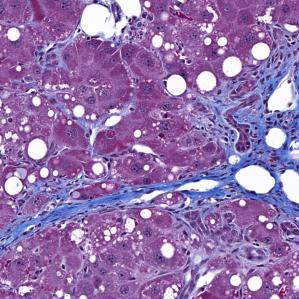fibrosis: (192, 77, 292, 206)
